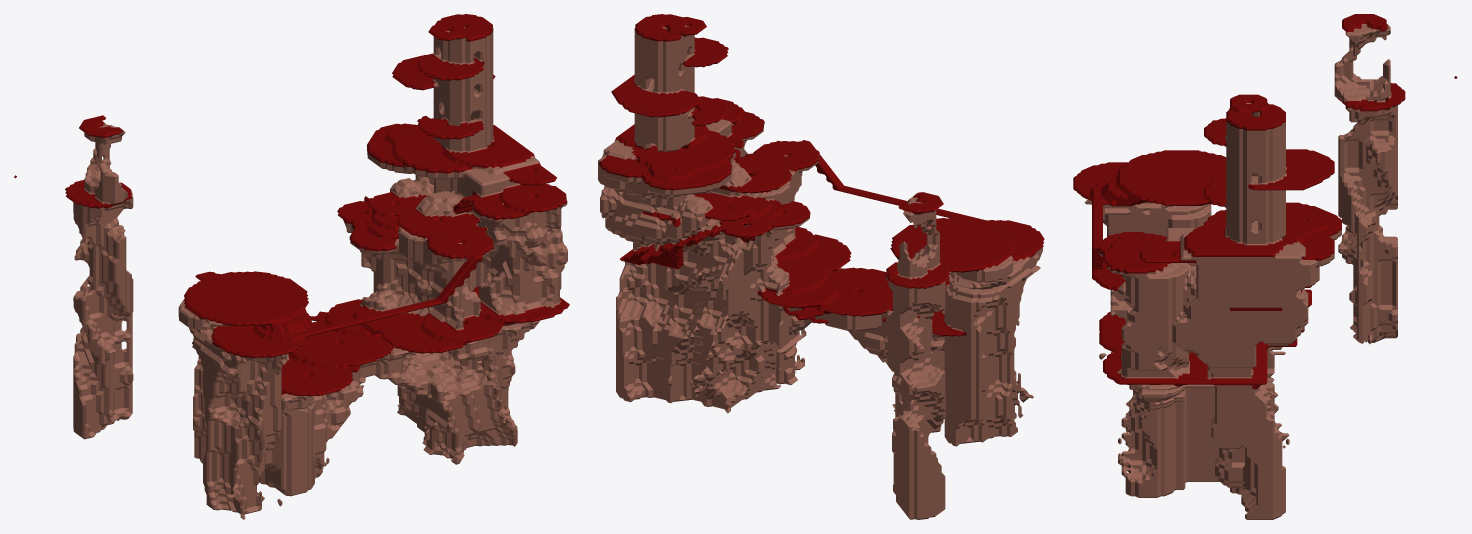
File: arena.fbx
The picture shows the model from 3 angles, left to right: view 1: azimuth 30°, elevation 25°; view 2: azimuth 150°, elevation 25°; view 3: azimuth 270°, elevation 25°; orthographic projection. The views are drawn at different scales.
Parts seen in each view (by area): view 1: arena; view 2: arena; view 3: arena.
Boxes of the visible parts, x1,y1,x2,y2 form: arena: (14, 14, 569, 519); arena: (598, 14, 1044, 519); arena: (1073, 14, 1457, 519).
Size of the model in its own units: 12600 by 11500 by 10300.
